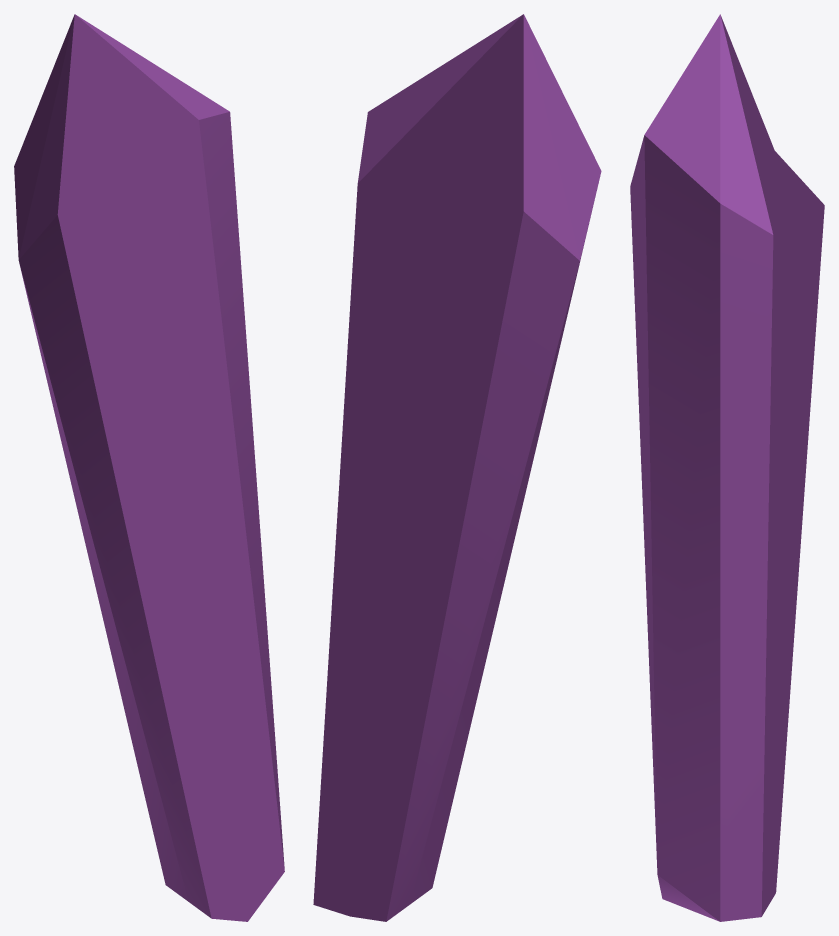
The model's file is Big_Crystal_2_LOD.fbx.
The picture shows the model from 3 angles, left to right: view 1: azimuth 30°, elevation 25°; view 2: azimuth 150°, elevation 25°; view 3: azimuth 270°, elevation 25°; orthographic projection. The views are drawn at different scales.
Parts seen in each view (by area): view 1: pCube68; view 2: pCube68; view 3: pCube68.
Part boxes in pixels (left/top/right/bottom): pCube68: left=14, top=14, right=284, bottom=921; pCube68: left=313, top=14, right=601, bottom=921; pCube68: left=630, top=14, right=824, bottom=921.
Size of the model in its own units: 3.24 by 11.22 by 2.4.
